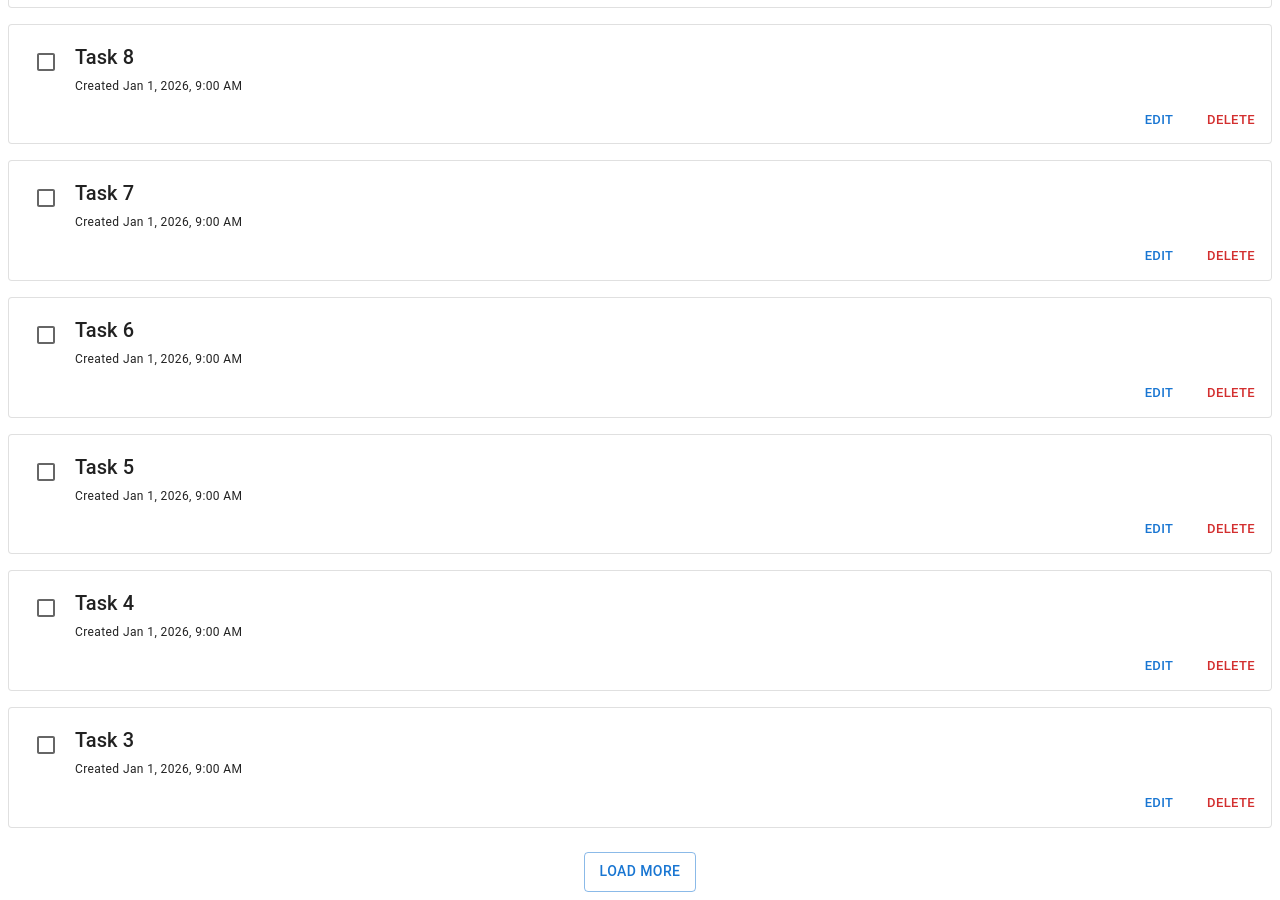
Scenario: TaskList paging and search › loads the next page with the Load more fallback
This screenshot has width=1280, height=900.
(page scrolled)
Click the button "Load more". click: (640, 872)
box: x1=584 y1=852 x2=696 y2=892
(page scrolled)
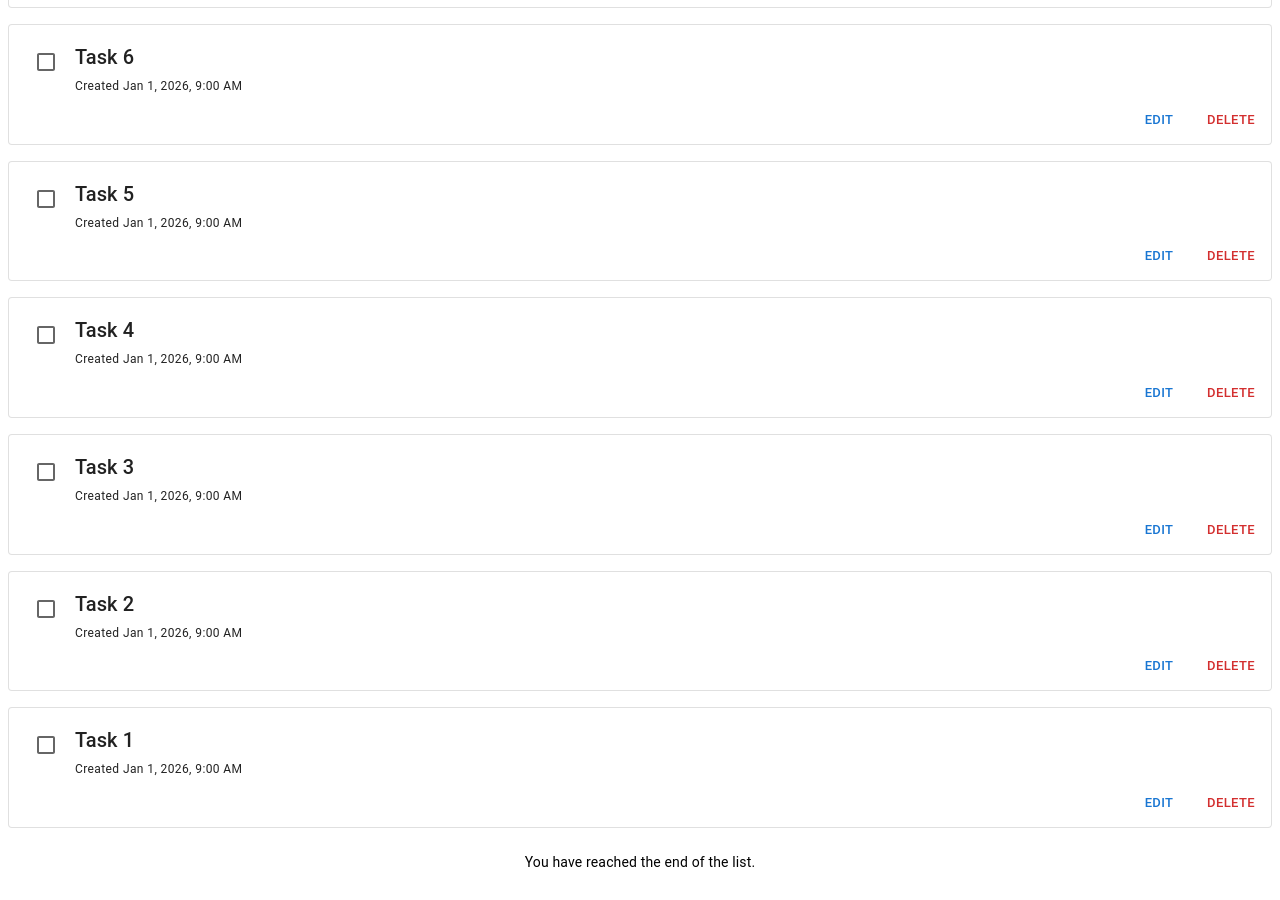
Check: the element "Task 1" is shown, box x1=8 y1=707 x2=1272 y2=828
Check: the text "You have reached the end of the list." is shown, box x1=525 y1=854 x2=755 y2=870
